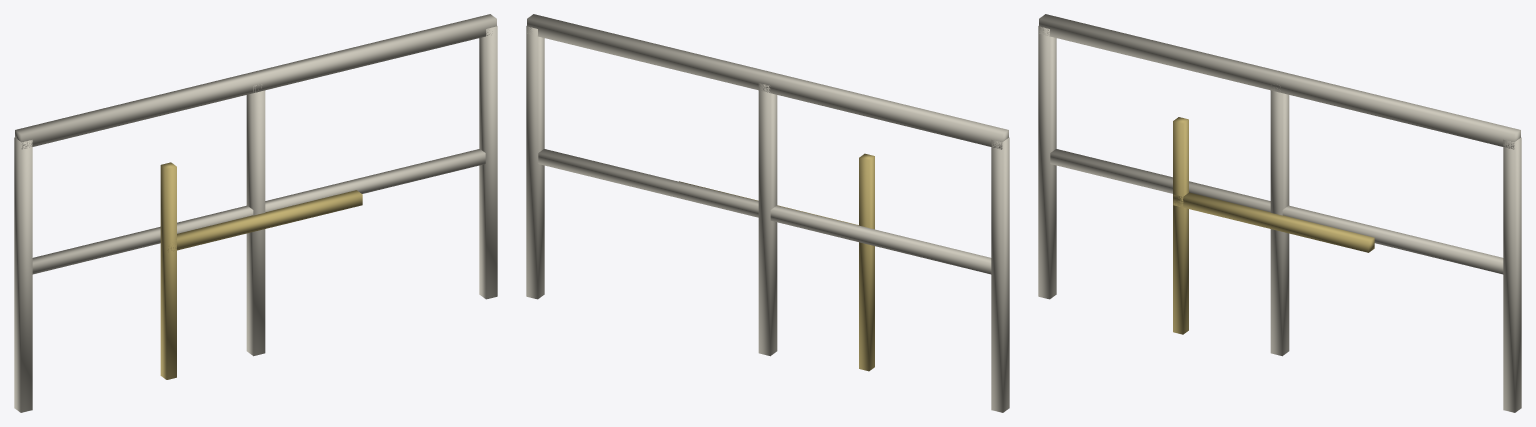
The model's file is civic_gate_l180_h100.glb.
The picture shows the model from 3 angles, left to right: view 1: azimuth 30°, elevation 25°; view 2: azimuth 150°, elevation 25°; view 3: azimuth 330°, elevation 25°; orthographic projection.
Visible parts, largest first — view 1: world; view 2: world; view 3: world.
Boxes of the visible parts, x1=… form: world: x1=14, y1=14, x2=497, y2=412; world: x1=526, y1=14, x2=1009, y2=412; world: x1=1038, y1=14, x2=1521, y2=412.
Bounding box in the file's own units: 1.85 × 1.03 × 0.0825.
